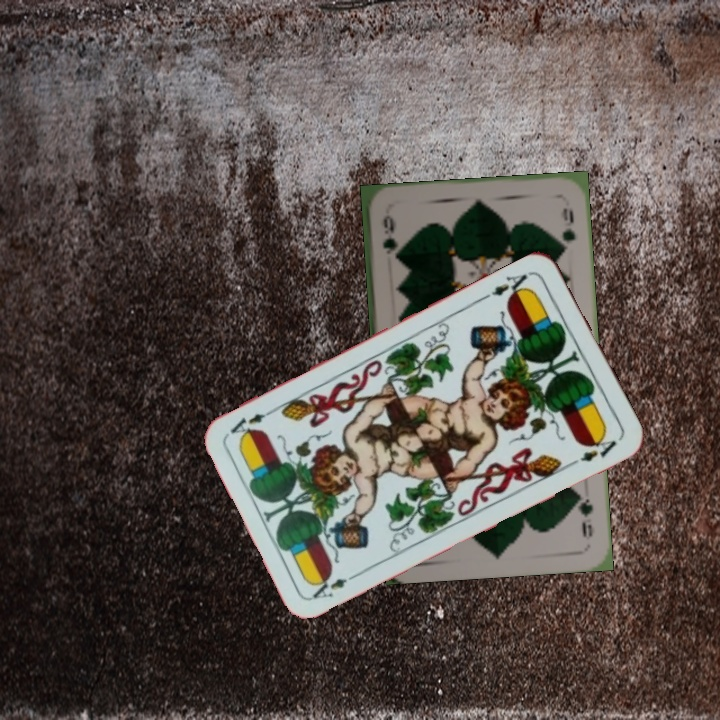EA: (481, 267, 536, 303), (307, 568, 363, 601)
G9: (573, 487, 595, 540), (379, 210, 399, 261)
